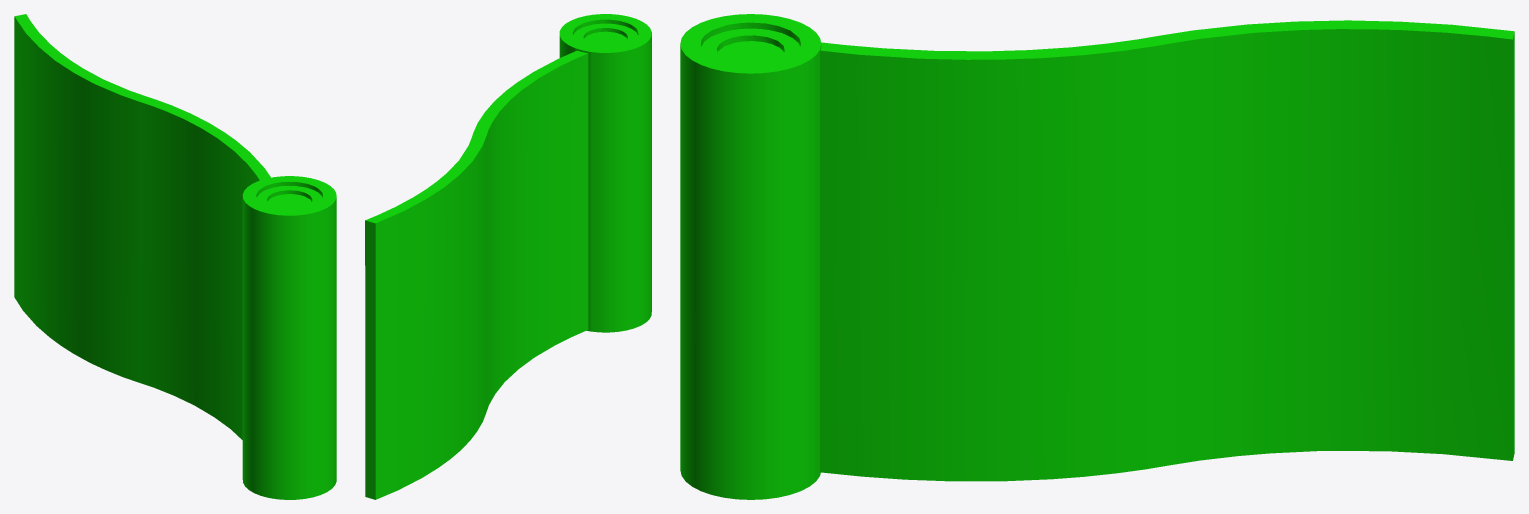
The model's file is Mapa.fbx.
3 views of the same model, side by side, from view 1: azimuth 30°, elevation 25°; view 2: azimuth 150°, elevation 25°; view 3: azimuth 270°, elevation 25° (orthographic). The views are drawn at different scales.
Parts seen in each view (by area): view 1: Cube; view 2: Cube; view 3: Cube.
Part boxes in pixels (bbox=[...]): Cube: bbox=[14, 14, 336, 499]; Cube: bbox=[365, 14, 651, 499]; Cube: bbox=[680, 14, 1514, 499].
Bounding box in the file's own units: 60 × 200 × 355.
